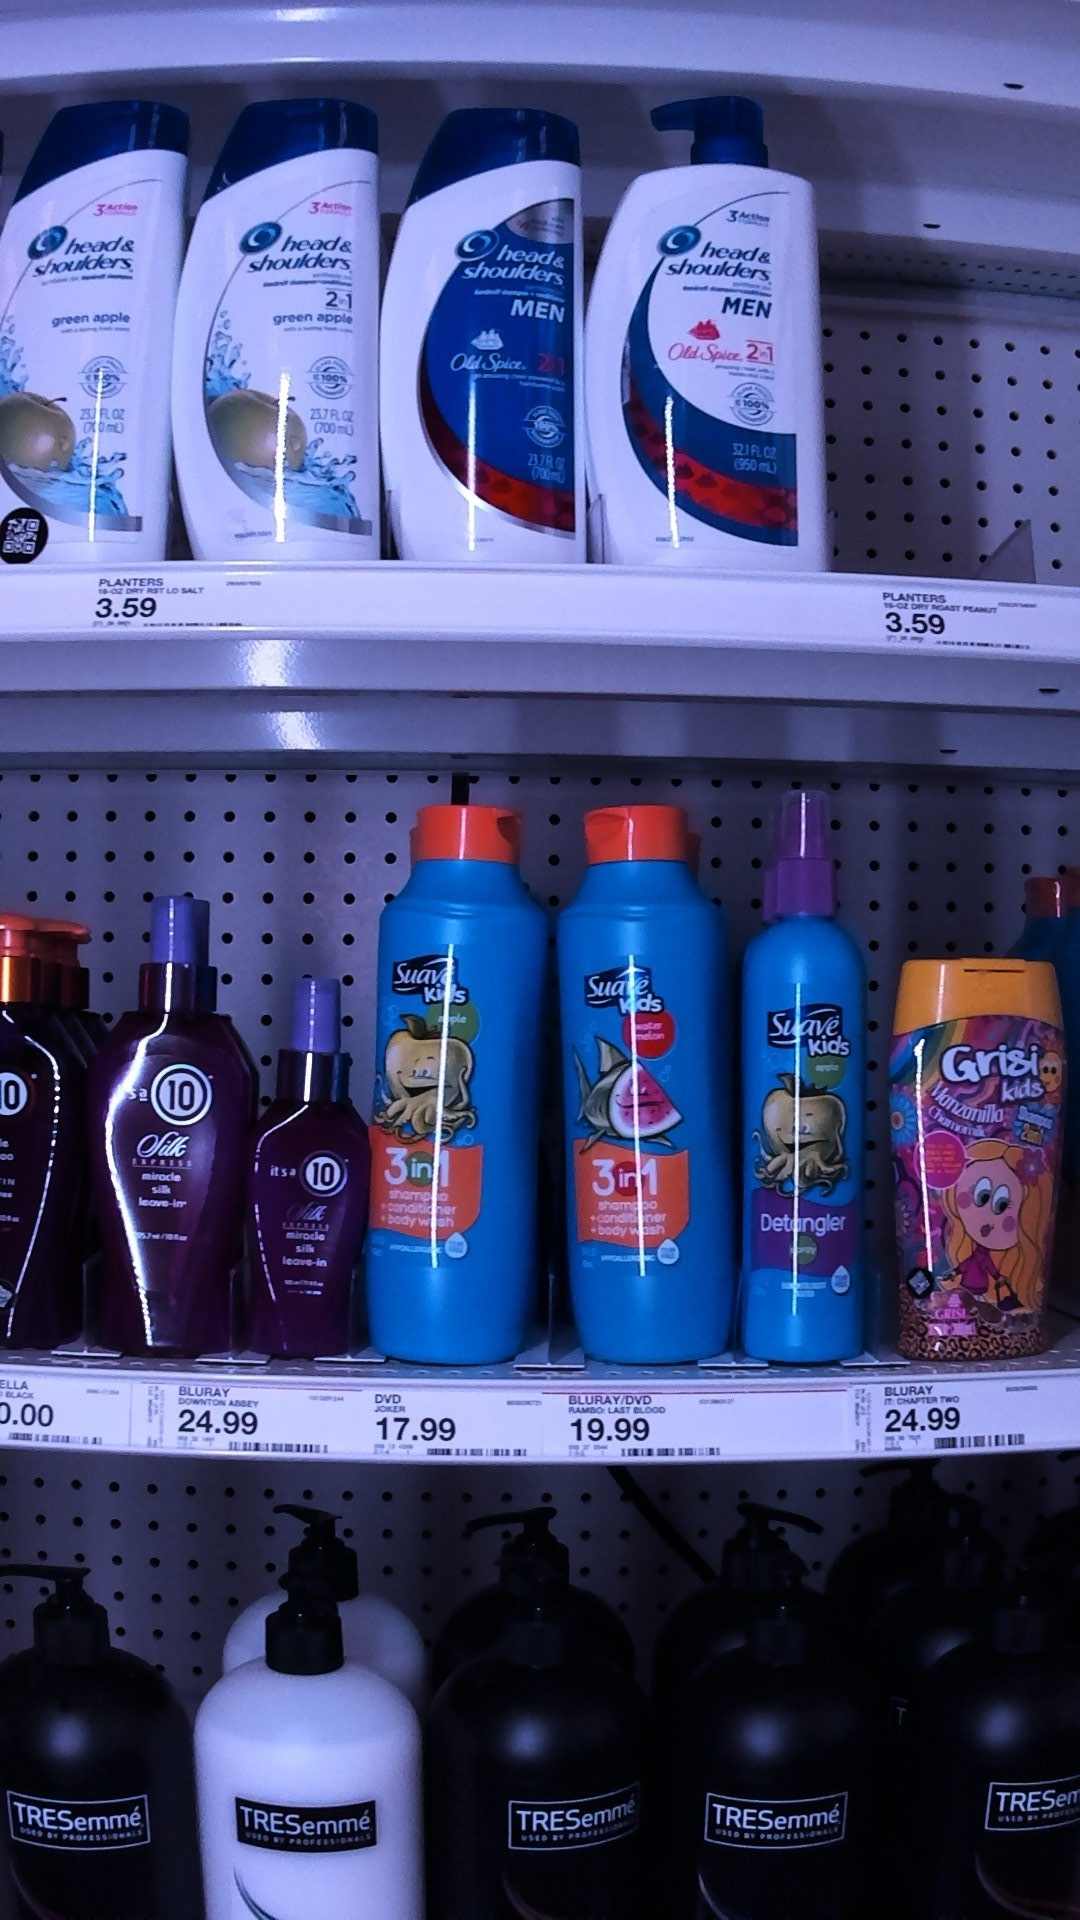ptag: (853, 1364, 1071, 1472), (562, 1375, 735, 1476), (371, 1375, 531, 1476), (86, 564, 262, 640), (162, 1382, 338, 1457), (878, 578, 1044, 653), (1, 1375, 120, 1448)
